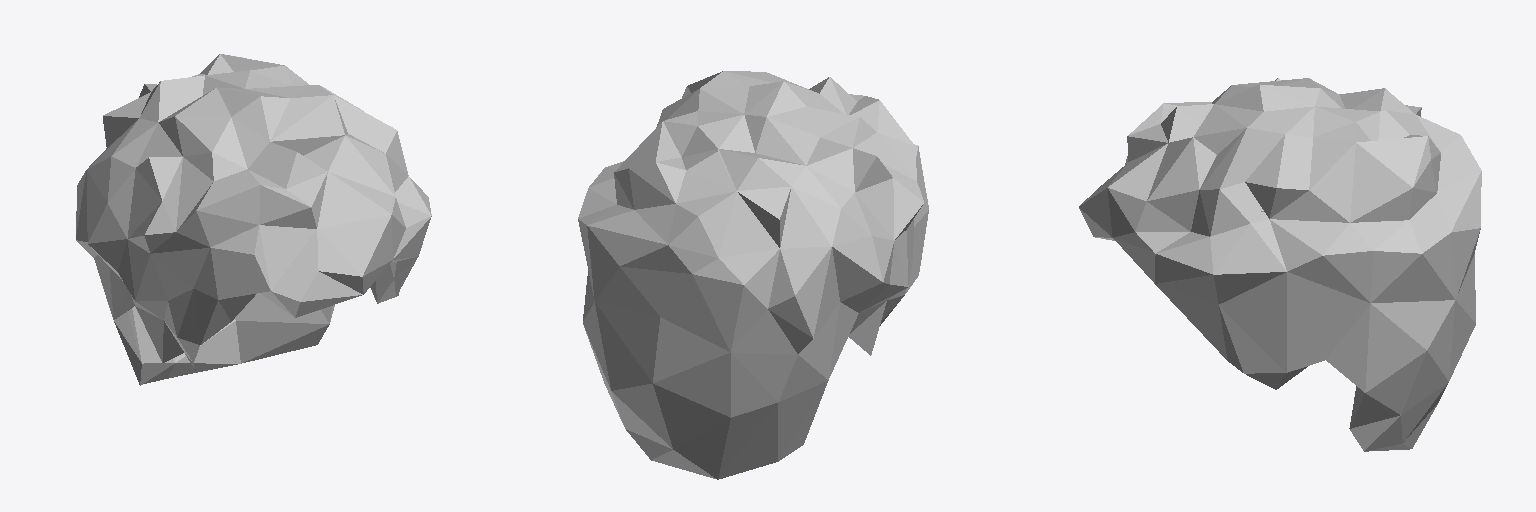
Rendered from hair male 3.obj.
3 renders of one model, left to right at view 1: azimuth 30°, elevation 25°; view 2: azimuth 150°, elevation 25°; view 3: azimuth 270°, elevation 25°, orthographic.
Visible parts, largest first — view 1: Object.001_Mesh; view 2: Object.001_Mesh; view 3: Object.001_Mesh.
Boxes of the visible parts, x1=… form: Object.001_Mesh: x1=76, y1=54, x2=431, y2=385; Object.001_Mesh: x1=578, y1=71, x2=928, y2=479; Object.001_Mesh: x1=1079, y1=78, x2=1481, y2=451.
Bounding box in the file's own units: 0.4093 × 0.465 × 0.5041.